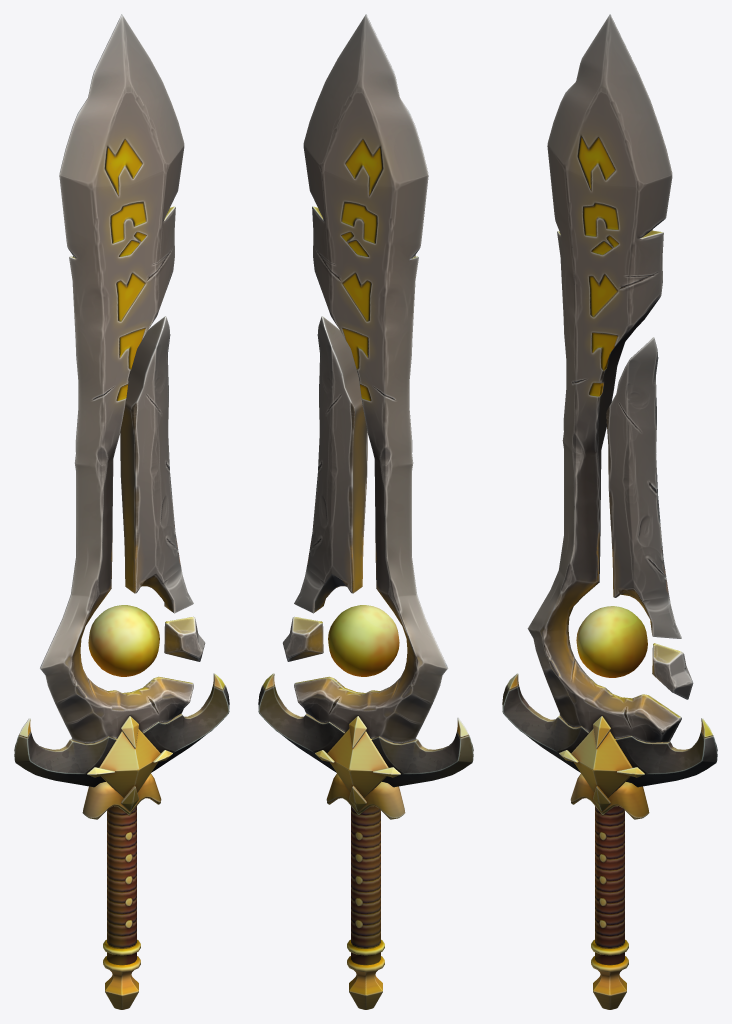
Rendered from SM_Sword_66.gltf.
The picture shows the model from 3 angles, left to right: view 1: azimuth 30°, elevation 25°; view 2: azimuth 150°, elevation 25°; view 3: azimuth 330°, elevation 25°; orthographic projection.
Parts seen in each view (by area): view 1: SM_Sword_66; view 2: SM_Sword_66; view 3: SM_Sword_66.
Part boxes in pixels (left/top/right/bottom): SM_Sword_66: left=14, top=14, right=229, bottom=1009; SM_Sword_66: left=258, top=14, right=473, bottom=1009; SM_Sword_66: left=502, top=14, right=717, bottom=1009.
Size of the model in its own units: 0.3409 by 1.51 by 0.0991.
1 material, 1 textured.
